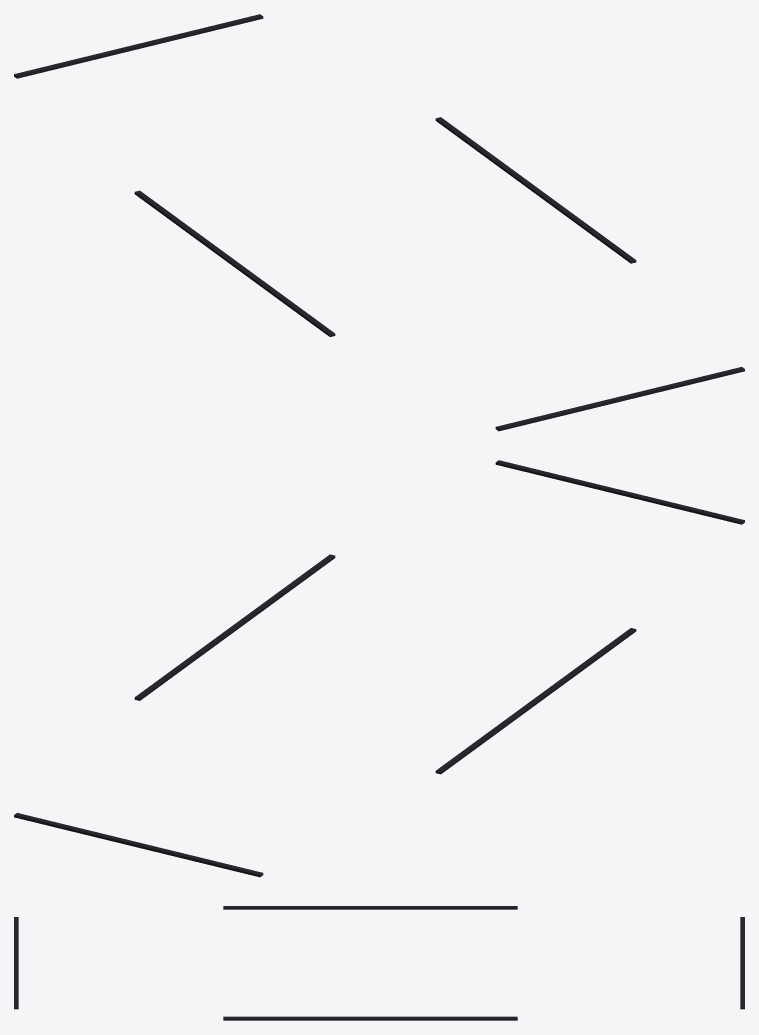
The model's file is ridgeback_4x4.glb.
The picture shows the model from 3 angles, top to bottom: view 1: azimuth 30°, elevation 25°; view 2: azimuth 150°, elevation 25°; view 3: azimuth 270°, elevation 25°; orthographic projection. The views are drawn at different scales.
Visible parts, largest first — view 1: model; view 2: model; view 3: model.
Part boxes in pixels (x1,y1,x2,y2): model: (14,14,744,431); model: (14,460,744,877); model: (14,906,744,1020).
Size of the model in its own units: 1.61 by 0.0178 by 4.41.
Materials: 2 (1 with a texture image).
